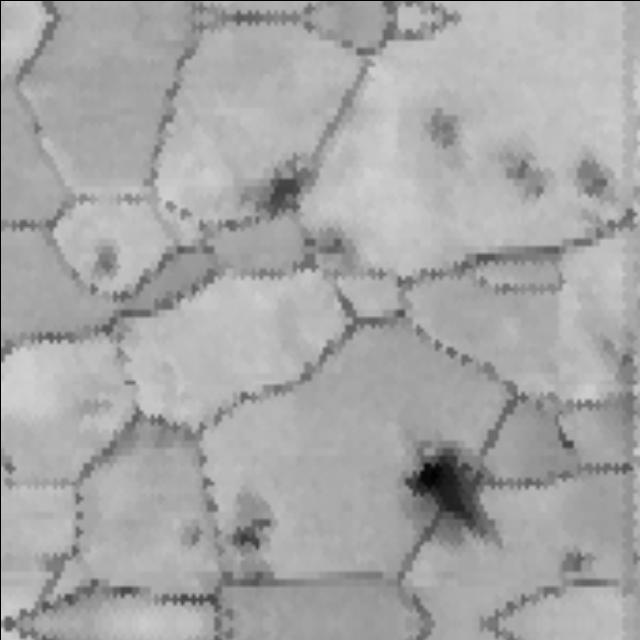good_void: (394, 431, 508, 543), (251, 150, 323, 224), (296, 222, 365, 283), (412, 98, 468, 149), (218, 510, 276, 559), (570, 143, 614, 205), (547, 537, 600, 580), (503, 155, 550, 200), (607, 339, 640, 382), (550, 409, 580, 455), (88, 236, 124, 271), (218, 597, 242, 622), (183, 519, 204, 545), (0, 445, 18, 475), (218, 622, 242, 640)
